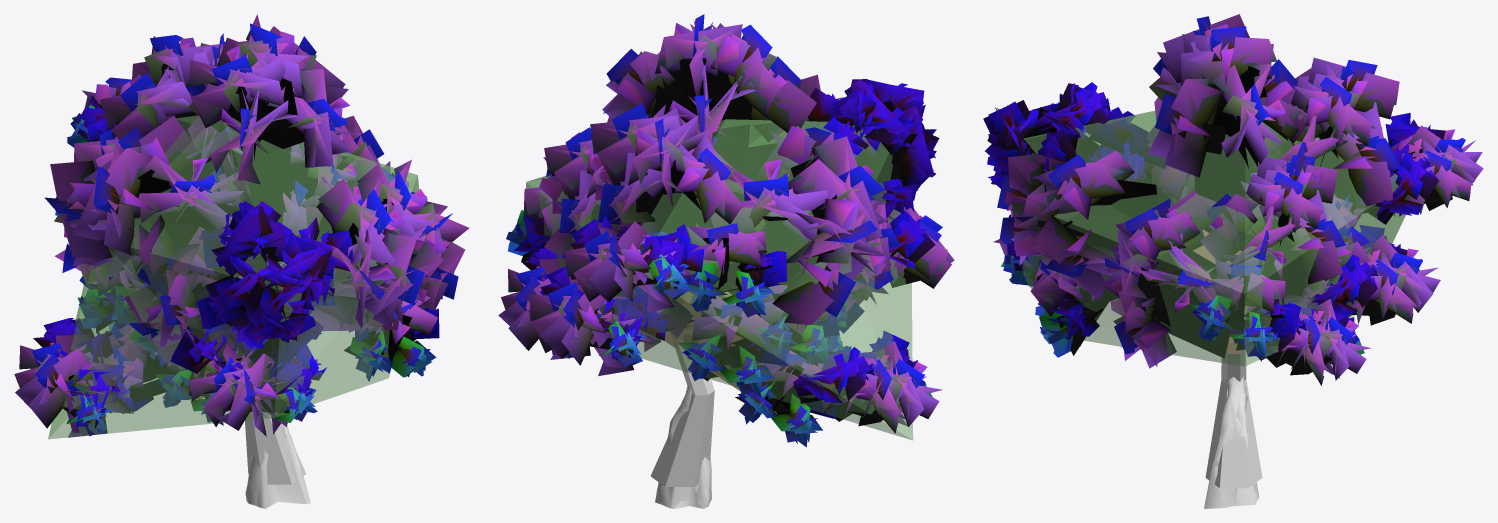
The model's file is holm_oak.dae.
The picture shows the model from 3 angles, left to right: view 1: azimuth 30°, elevation 25°; view 2: azimuth 150°, elevation 25°; view 3: azimuth 270°, elevation 25°; orthographic projection. The views are drawn at different scales.
Parts seen in each view (by area): view 1: holm_oak_b2000, holm_oak_b450, Colmesh-1; view 2: holm_oak_b2000, holm_oak_b450, Colmesh-1; view 3: holm_oak_b2000, holm_oak_b450, Colmesh-1.
Part boxes in pixels (x1,y1,x2,y2): holm_oak_b2000: (14,14,468,508); holm_oak_b450: (14,23,468,508); Colmesh-1: (48,115,419,484); holm_oak_b2000: (501,14,953,508); holm_oak_b450: (498,14,954,508); Colmesh-1: (523,119,913,486); holm_oak_b2000: (985,14,1483,508); holm_oak_b450: (983,14,1483,508); Colmesh-1: (1022,110,1405,488).
Size of the model in its own units: 11.57 by 12.57 by 12.86.
